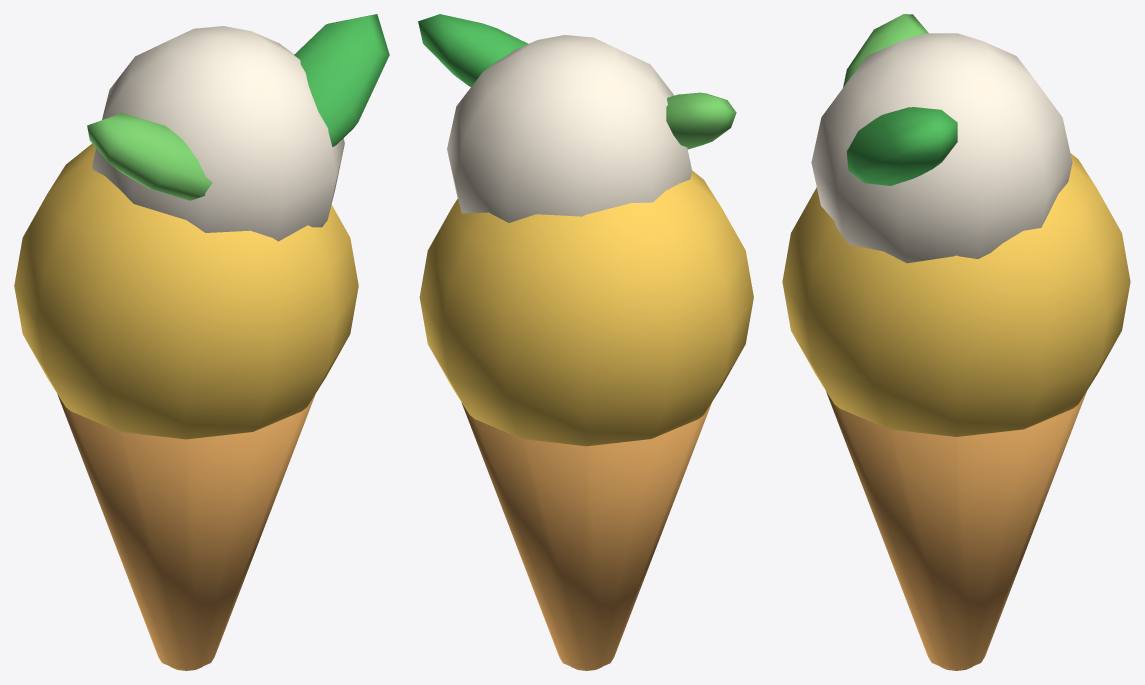
File: IceCreamConeLemonBasil.fbx
3 views of the same model, side by side, from view 1: azimuth 30°, elevation 25°; view 2: azimuth 150°, elevation 25°; view 3: azimuth 270°, elevation 25° (orthographic). The views are drawn at different scales.
Parts seen in each view (by area): view 1: IceCreamConeLemonBasil; view 2: IceCreamConeLemonBasil; view 3: IceCreamConeLemonBasil.
Boxes of the visible parts, x1,y1,x2,y2 form: IceCreamConeLemonBasil: (14, 14, 389, 670); IceCreamConeLemonBasil: (418, 14, 753, 670); IceCreamConeLemonBasil: (782, 14, 1130, 670).
Bounding box in the file's own units: 0.2667 × 0.48 × 0.24.
